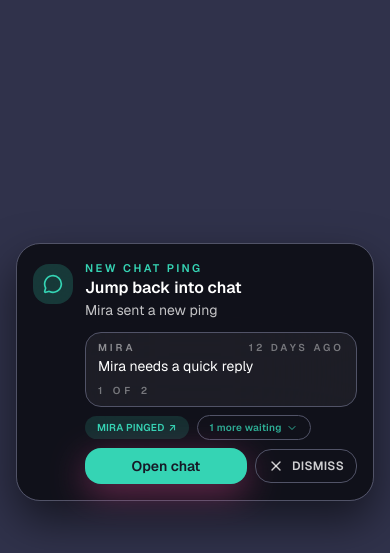
Test: EventChatAttentionToast › renders quick-jump chips and picker so queued threads are actionable
Later steps or results of the test are not shown.
Expected: the link with aria-label "open chat with mira" is shown, [85,416,189,439]
Step 1. Click the button with aria-label "view queued guests" → (254,428), box [197,415,311,440]
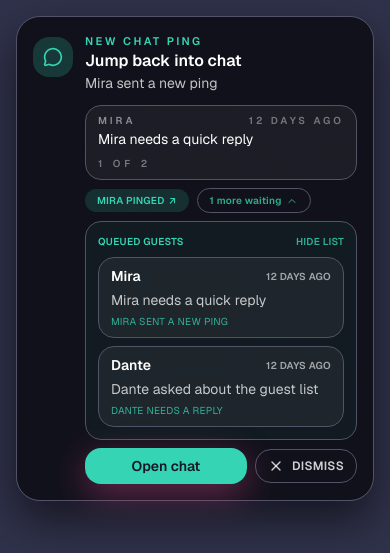
Result: the link with aria-label "open chat with dante" is shown at [98,346,344,427]
